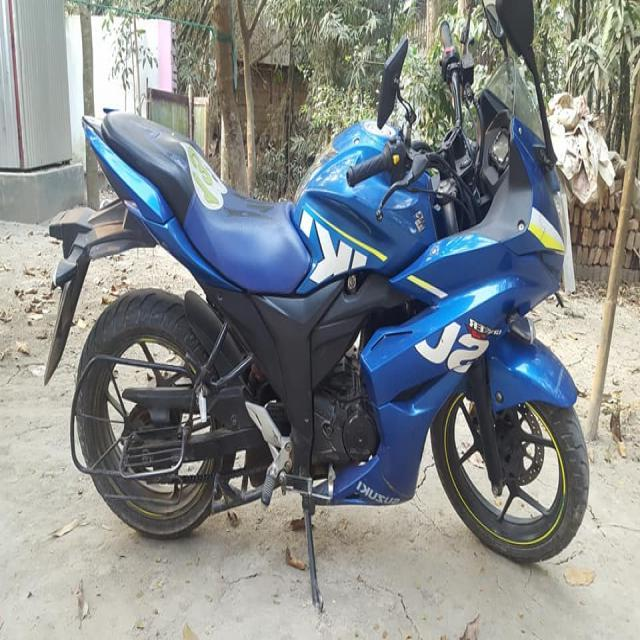Motorbike: (35, 25, 611, 573)
